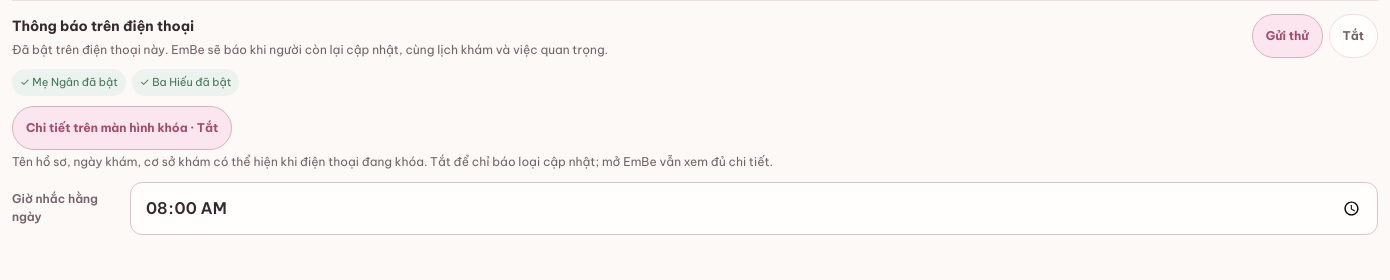
Test case: family notification setup › lets an enabled iPhone send itself a real test notification
Click the button "Gửi thử": (1287, 36) left=1252, top=14, right=1323, bottom=58
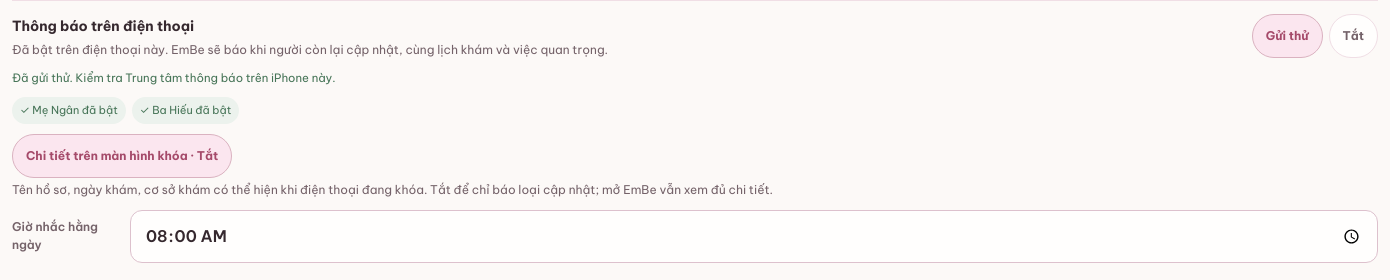
expect the text "Đã gửi thử. Kiểm tra Trung tâm thông báo trên iPhone này." is shown: met, box left=12, top=70, right=336, bottom=85
